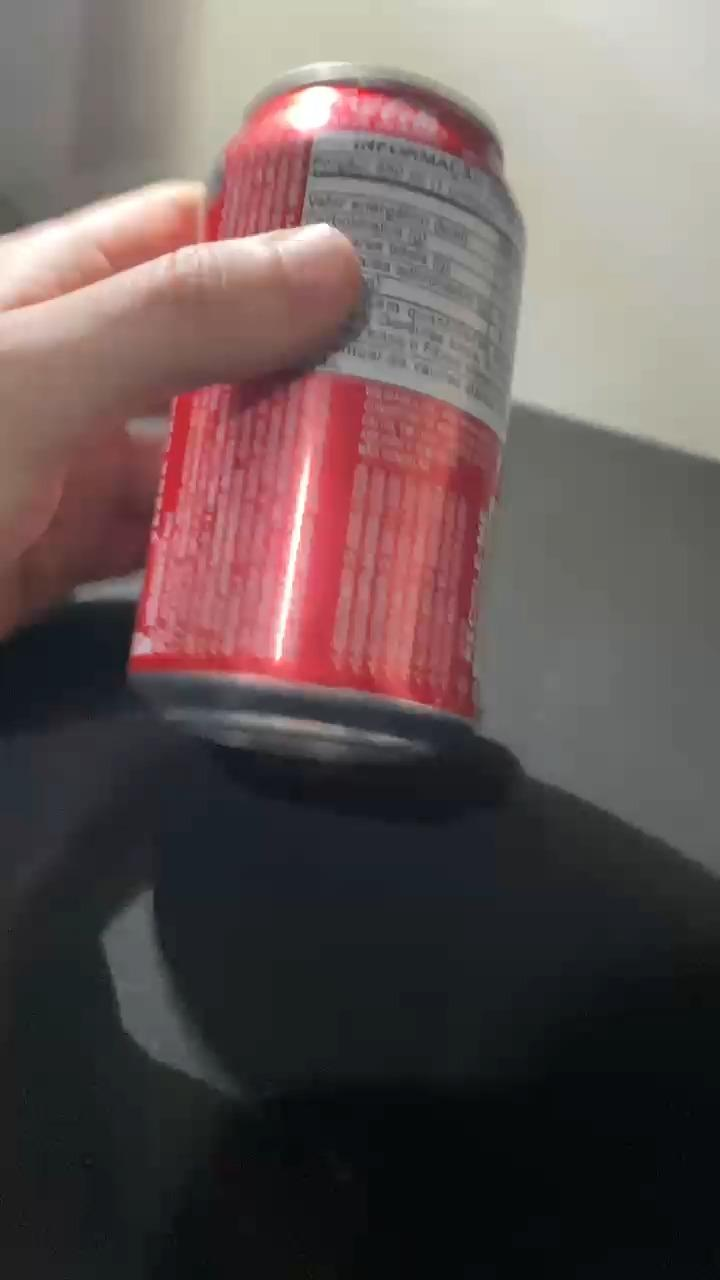coke: (136, 91, 522, 730)
